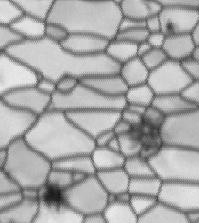good_void: (121, 109, 170, 166), (37, 175, 71, 216), (162, 15, 176, 33)
